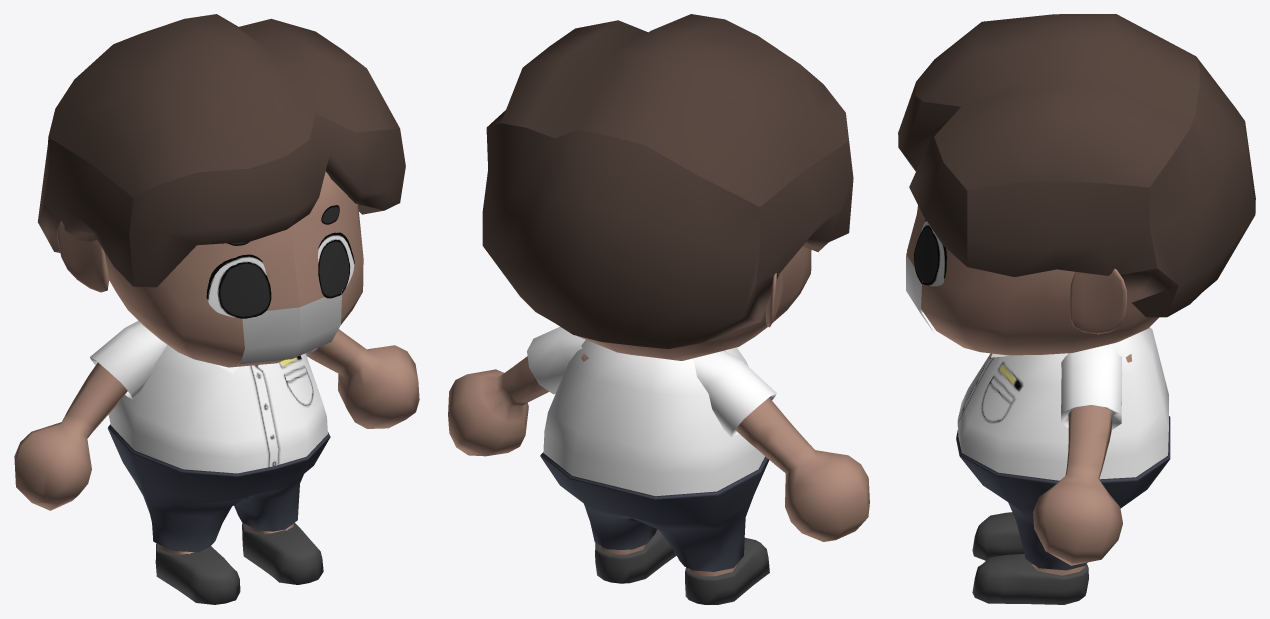
File: MRT Officer.fbx
3 renders of one model, left to right at view 1: azimuth 30°, elevation 25°; view 2: azimuth 150°, elevation 25°; view 3: azimuth 270°, elevation 25°, orthographic. The views are drawn at different scales.
Visible parts, largest first — view 1: Officer_Hair, polySurface4, shirt_n_pants11, eyes, mouth, pCube58, pCube57, pCylinder26; view 2: Officer_Hair, shirt_n_pants11, polySurface4, pCylinder26, pCube58, pCube57, pCylinder27; view 3: Officer_Hair, polySurface4, shirt_n_pants11, pCube57, pCylinder27, pCube58, eyes, mouth.
Boxes of the visible parts, x1=… form: Officer_Hair: x1=38, y1=14, x2=405, y2=287; polySurface4: x1=14, y1=171, x2=419, y2=554; shirt_n_pants11: x1=107, y1=345, x2=330, y2=552; eyes: x1=206, y1=205, x2=354, y2=318; mouth: x1=240, y1=289, x2=342, y2=363; pCube58: x1=155, y1=543, x2=240, y2=604; pCube57: x1=242, y1=522, x2=323, y2=584; pCylinder26: x1=90, y1=320, x2=167, y2=399; Officer_Hair: x1=482, y1=14, x2=853, y2=348; shirt_n_pants11: x1=540, y1=340, x2=769, y2=571; polySurface4: x1=448, y1=246, x2=869, y2=576; pCylinder26: x1=693, y1=350, x2=776, y2=436; pCube58: x1=685, y1=537, x2=769, y2=604; pCube57: x1=595, y1=529, x2=676, y2=583; pCylinder27: x1=527, y1=326, x2=585, y2=394; Officer_Hair: x1=898, y1=14, x2=1255, y2=317; polySurface4: x1=907, y1=205, x2=1158, y2=575; shirt_n_pants11: x1=956, y1=327, x2=1170, y2=570; pCube57: x1=972, y1=554, x2=1088, y2=604; pCylinder27: x1=1061, y1=345, x2=1122, y2=429; pCube58: x1=972, y1=512, x2=1024, y2=560; eyes: x1=914, y1=219, x2=946, y2=286; mouth: x1=906, y1=253, x2=933, y2=332.
Size of the model in its own units: 5.07 by 6.36 by 3.81.
